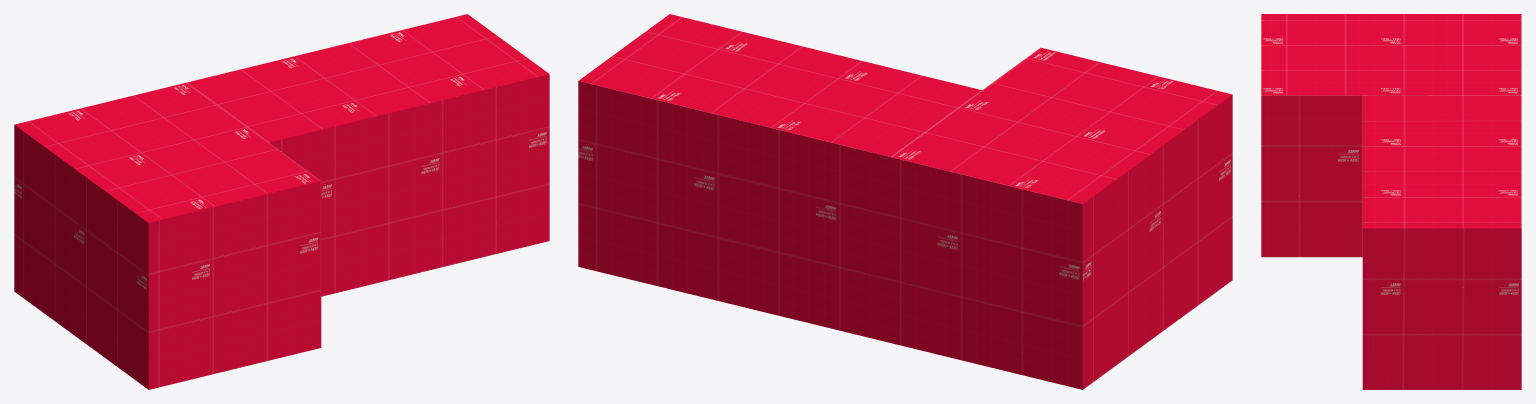
File: raum.fbx
The picture shows the model from 3 angles, left to right: view 1: azimuth 30°, elevation 25°; view 2: azimuth 150°, elevation 25°; view 3: azimuth 270°, elevation 25°; orthographic projection. The views are drawn at different scales.
Visible parts, largest first — view 1: raum.001, raum.004, raum.009, raum.010, raum.005; view 2: raum.006, raum.009, raum.010, raum.005; view 3: raum.008, raum.010, raum.009, raum.003.
Boxes of the visible parts, bbox=[...] form: raum.001: bbox=[269, 74, 549, 296]; raum.004: bbox=[148, 181, 321, 389]; raum.009: bbox=[14, 82, 320, 222]; raum.010: bbox=[187, 14, 549, 142]; raum.005: bbox=[14, 125, 148, 389]; raum.006: bbox=[578, 81, 1082, 389]; raum.009: bbox=[891, 47, 1232, 203]; raum.010: bbox=[578, 14, 981, 156]; raum.005: bbox=[1083, 95, 1232, 389]; raum.008: bbox=[1362, 228, 1521, 389]; raum.010: bbox=[1362, 95, 1521, 228]; raum.009: bbox=[1261, 14, 1521, 95]; raum.003: bbox=[1261, 95, 1362, 257].
Size of the model in its own units: 825 by 290 by 424.
8 materials, 8 textured.
